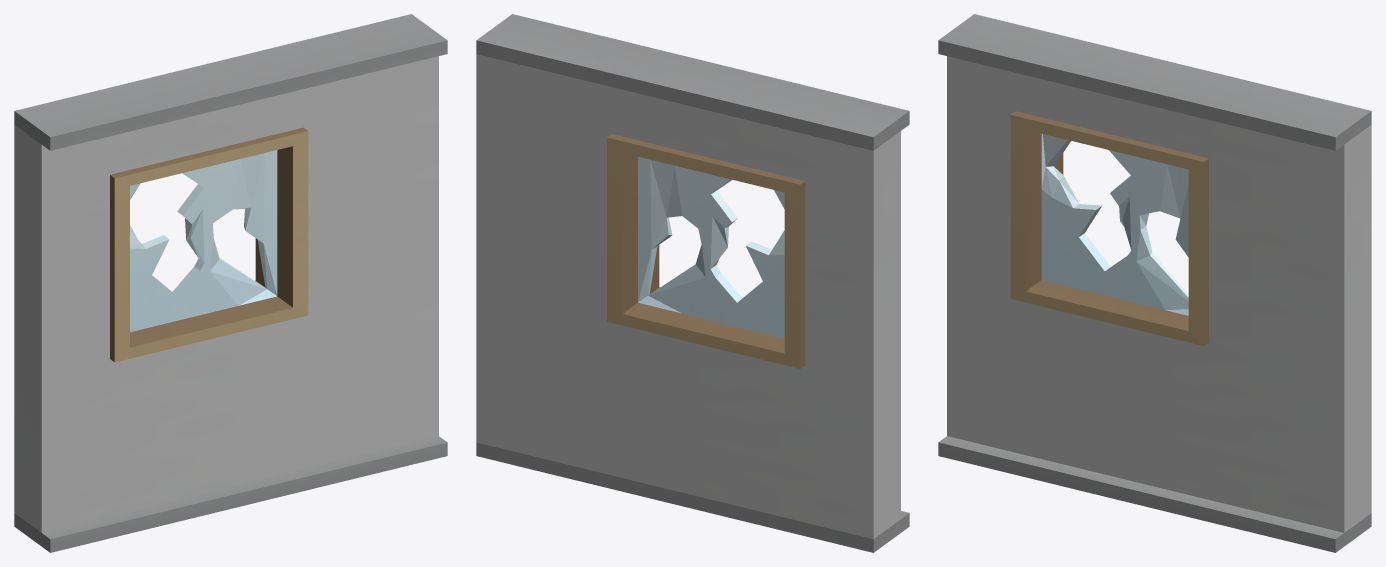
Rendered from wall_1_window_1.dae.
3 views of the same model, side by side, from view 1: azimuth 30°, elevation 25°; view 2: azimuth 150°, elevation 25°; view 3: azimuth 330°, elevation 25° (orthographic).
Parts seen in each view (by area): view 1: wall_1_window_1; view 2: wall_1_window_1; view 3: wall_1_window_1.
Boxes of the visible parts, x1,y1,x2,y2 form: wall_1_window_1: [14, 14, 447, 552]; wall_1_window_1: [476, 14, 909, 552]; wall_1_window_1: [938, 14, 1371, 552].
Size of the model in its own units: 2 by 0.3568 by 2.
